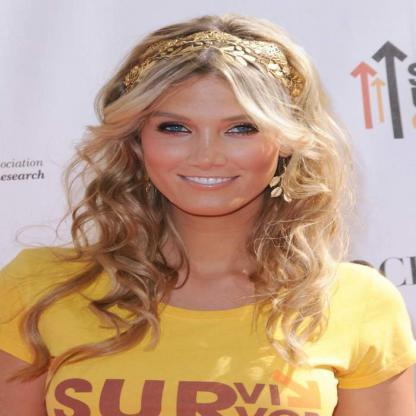long-hair: (65, 217, 349, 287)
